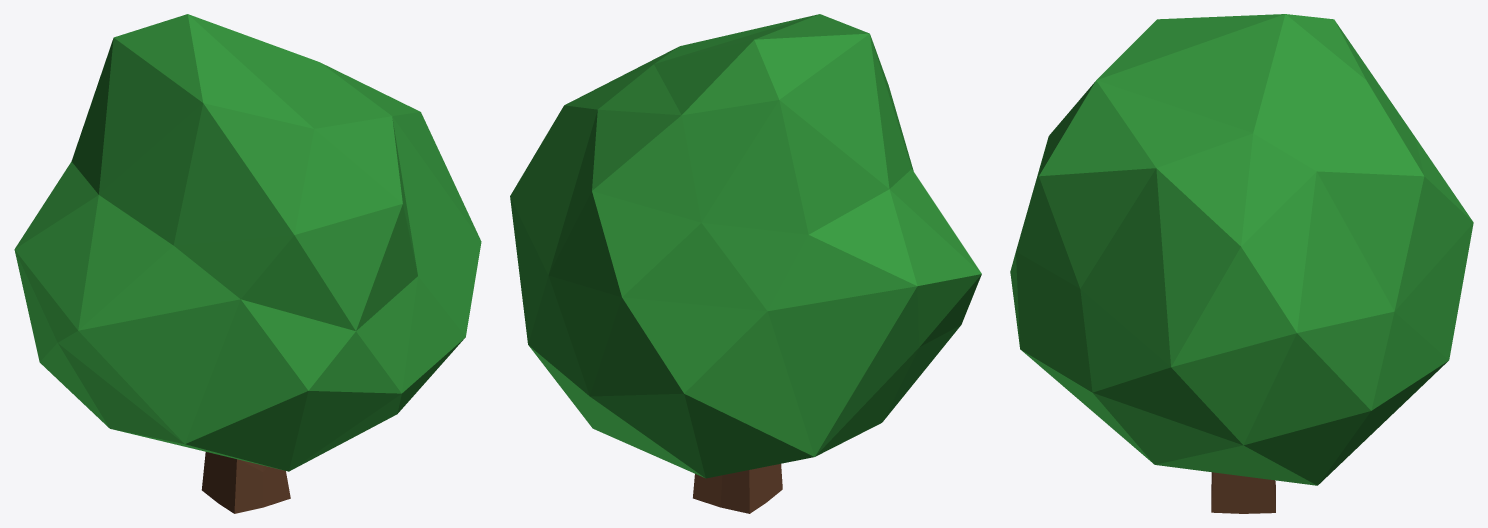
File: Tree_3_Green.fbx
3 renders of one model, left to right at view 1: azimuth 30°, elevation 25°; view 2: azimuth 150°, elevation 25°; view 3: azimuth 270°, elevation 25°, orthographic. The views are drawn at different scales.
Visible parts, largest first — view 1: Tree_3_Green_Part_1, Tree_3_Green_Part_2; view 2: Tree_3_Green_Part_1, Tree_3_Green_Part_2; view 3: Tree_3_Green_Part_1, Tree_3_Green_Part_2.
Boxes of the visible parts, x1,y1,x2,y2 form: Tree_3_Green_Part_1: (14, 14, 481, 471); Tree_3_Green_Part_2: (201, 452, 290, 513); Tree_3_Green_Part_1: (510, 14, 981, 478); Tree_3_Green_Part_2: (693, 464, 782, 513); Tree_3_Green_Part_1: (1010, 14, 1473, 485); Tree_3_Green_Part_2: (1211, 472, 1275, 513).
Bounding box in the file's own units: 714 × 807 × 720.
